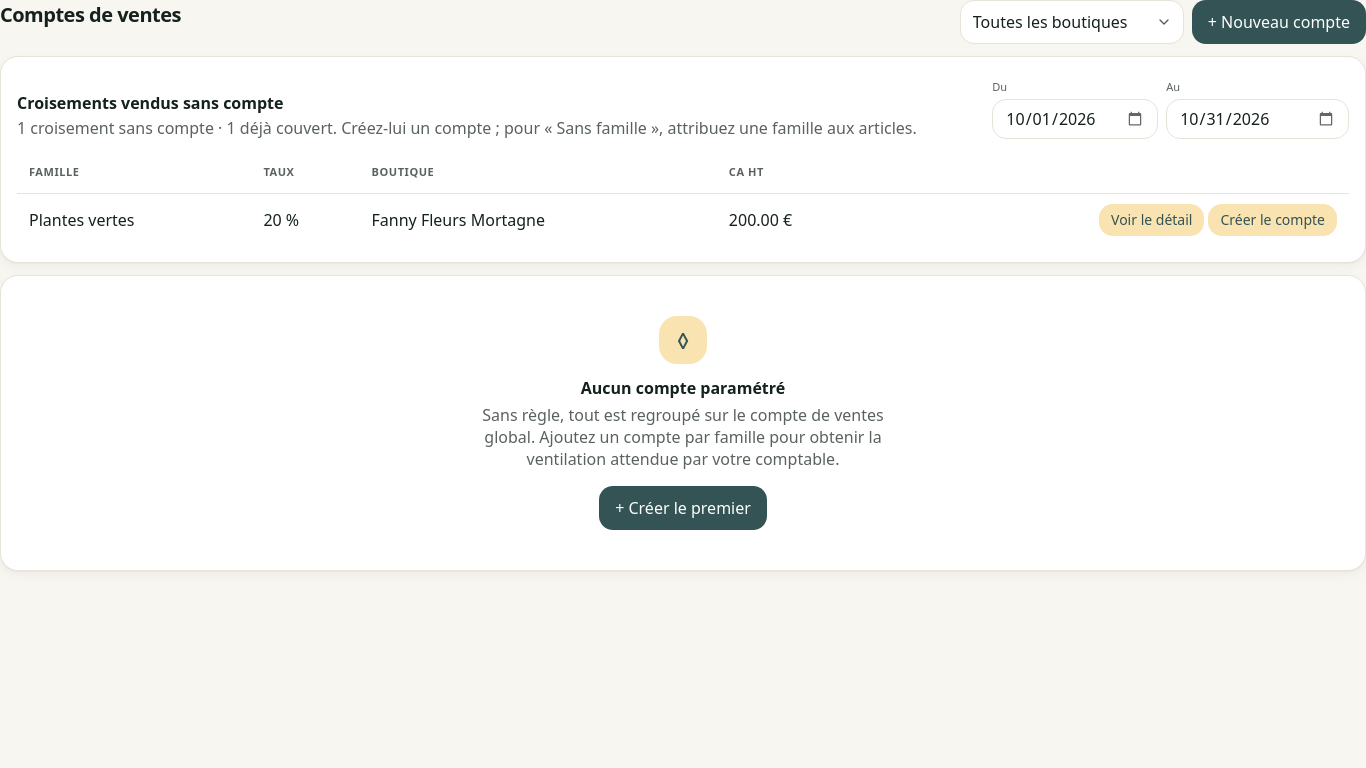
Test: Comptes de ventes — formulaire › propose les boutiques et les familles au comptable
What coordinates should you click on to do the following:
click the button "+ Créer le premier"
I would click on:
 (683, 508)
Its box is [599, 486, 767, 530].
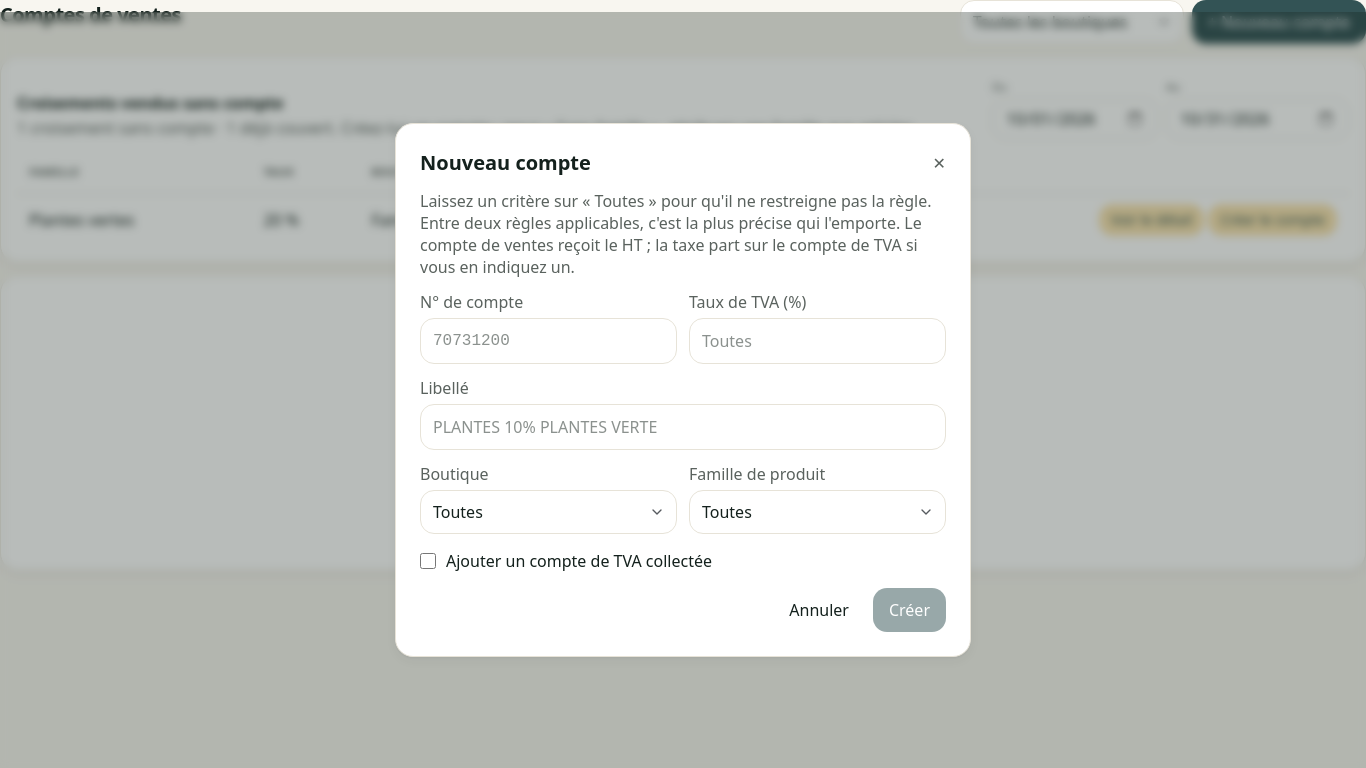
Expected: the heading "Nouveau compte" is shown, [420, 148, 591, 178]
